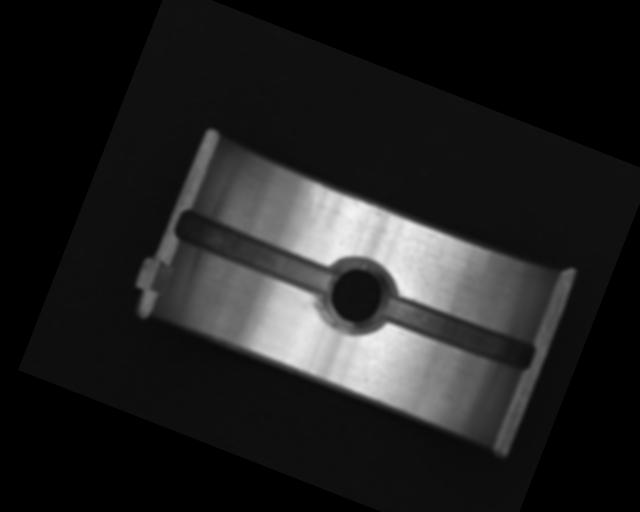gap: (171, 204, 337, 300), (379, 289, 538, 374)
hole: (307, 244, 407, 348)
